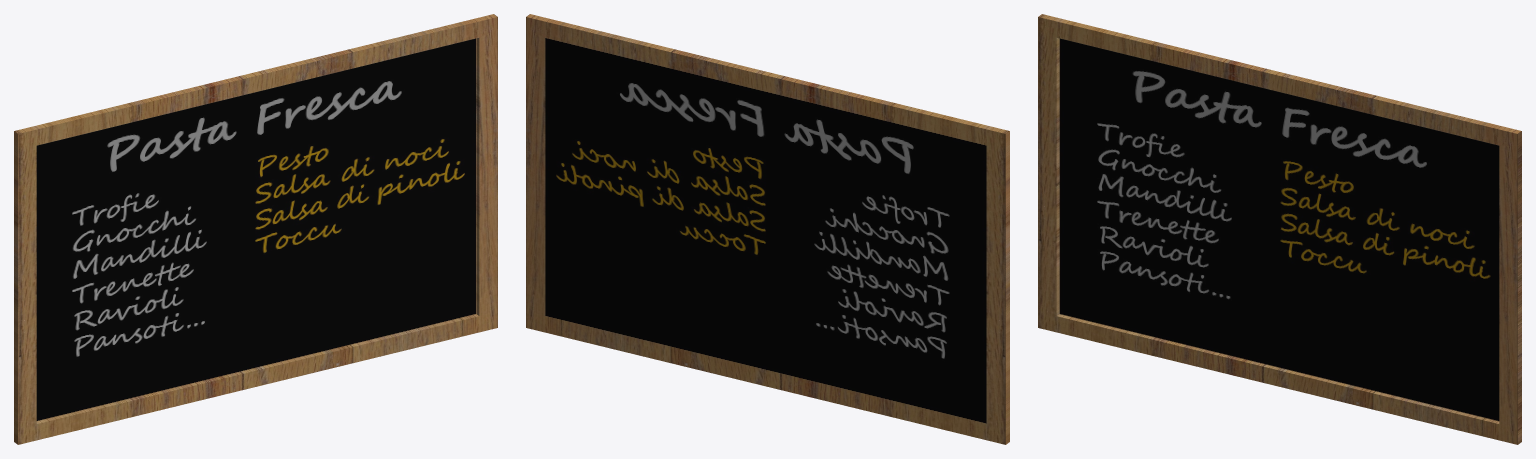
The model's file is lavagna pasta.fbx.
The picture shows the model from 3 angles, left to right: view 1: azimuth 30°, elevation 25°; view 2: azimuth 150°, elevation 25°; view 3: azimuth 330°, elevation 25°; orthographic projection.
Visible parts, largest first — view 1: lavagna; view 2: lavagna; view 3: lavagna.
Boxes of the visible parts, x1=… form: lavagna: x1=14, y1=14, x2=497, y2=444; lavagna: x1=526, y1=14, x2=1009, y2=444; lavagna: x1=1038, y1=14, x2=1521, y2=444.
Size of the model in its own units: 124 by 76.8 by 1.81.
